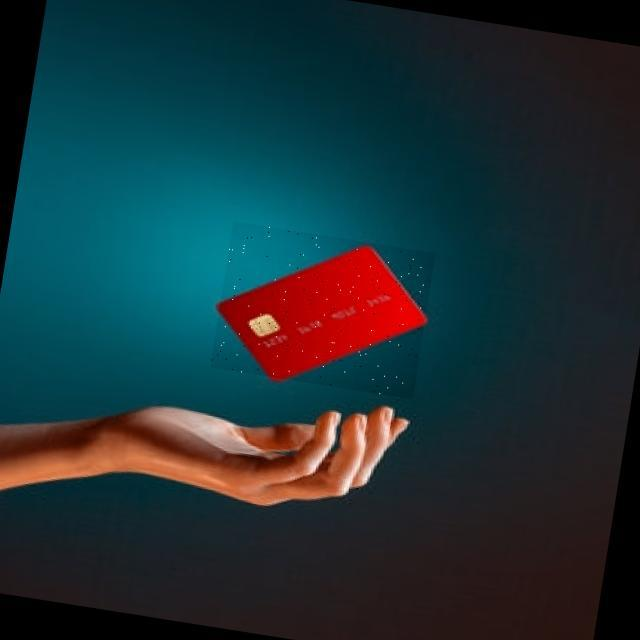payment_card: (214, 242, 428, 383)
